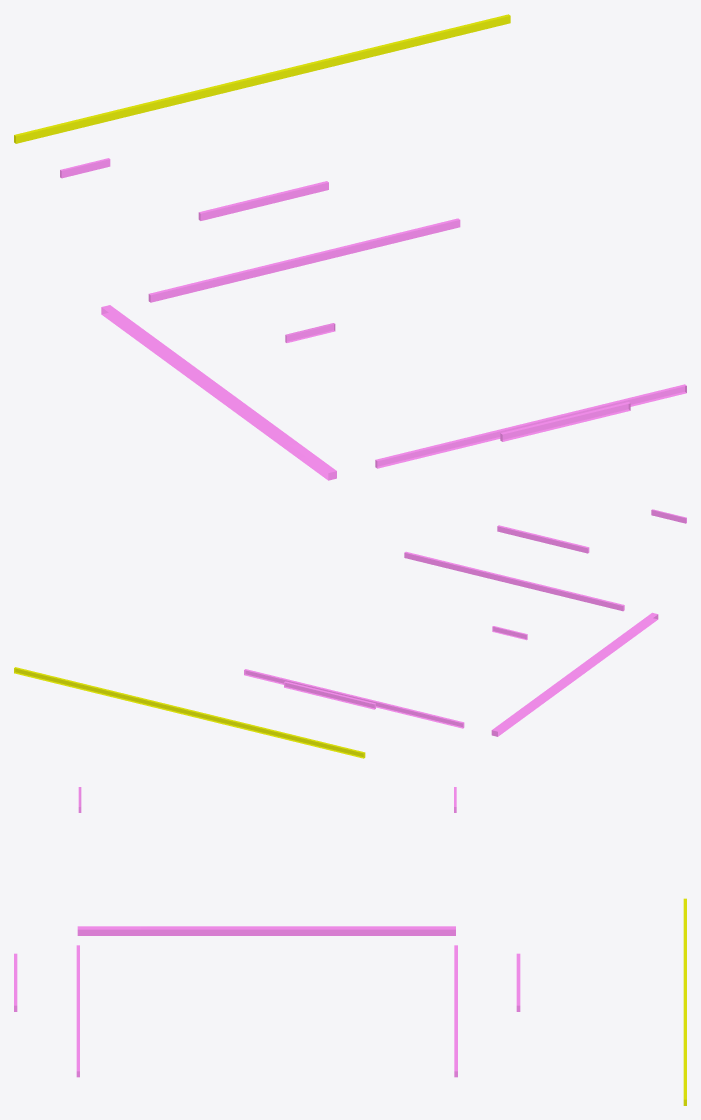
File: delosReyes_neonLights.glb
3 views of the same model, one above another, from view 1: azimuth 30°, elevation 25°; view 2: azimuth 150°, elevation 25°; view 3: azimuth 270°, elevation 25° (orthographic). The views are drawn at different scales.
Parts seen in each view (by area): view 1: neonLights; view 2: neonLights; view 3: neonLights.
Part boxes in pixels (bbox=[...]): neonLights: bbox=[14, 14, 686, 480]; neonLights: bbox=[14, 509, 686, 758]; neonLights: bbox=[14, 787, 686, 1105].
Size of the model in its own units: 40.62 by 10.21 by 48.41.
1 material, 1 textured.
